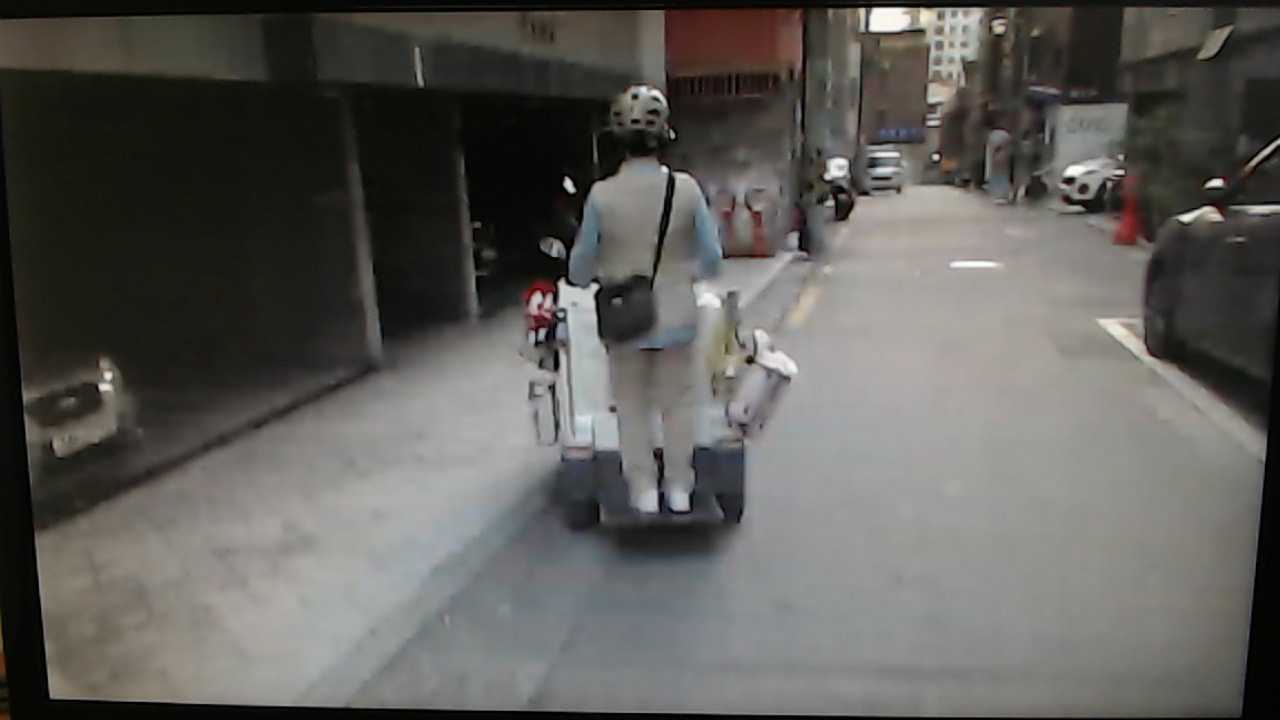Yakurut: (555, 71, 742, 558)
